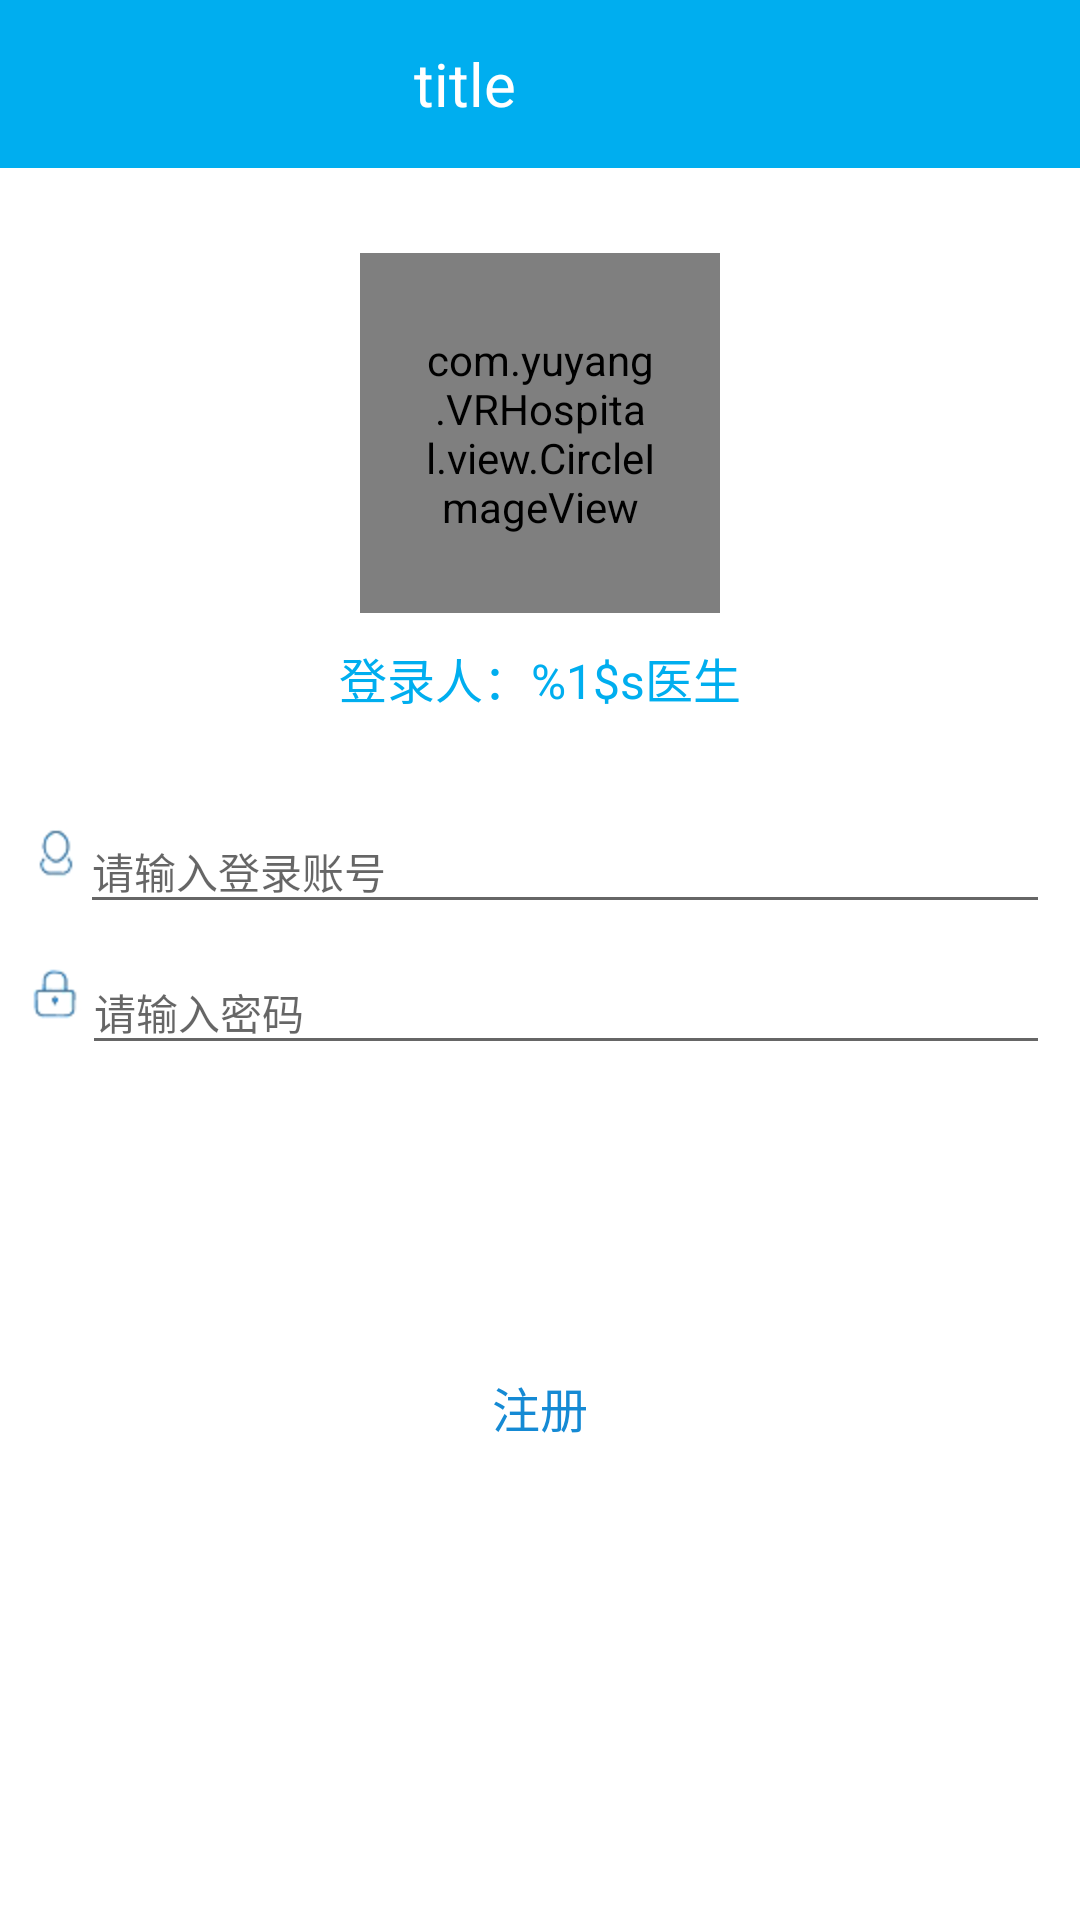

Point at icon controls on the screen. Image size 1080px×1920px, points as point (x, y).
login account: point (56, 853)
login password: point (55, 993)
